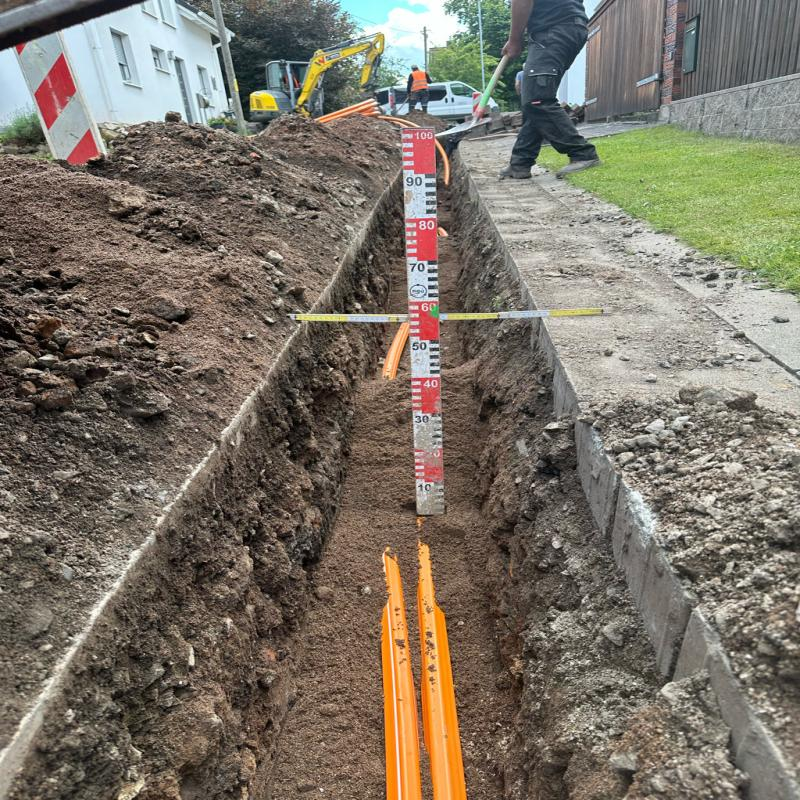Orang-Speednetrohrchen: (382, 554, 468, 800)
